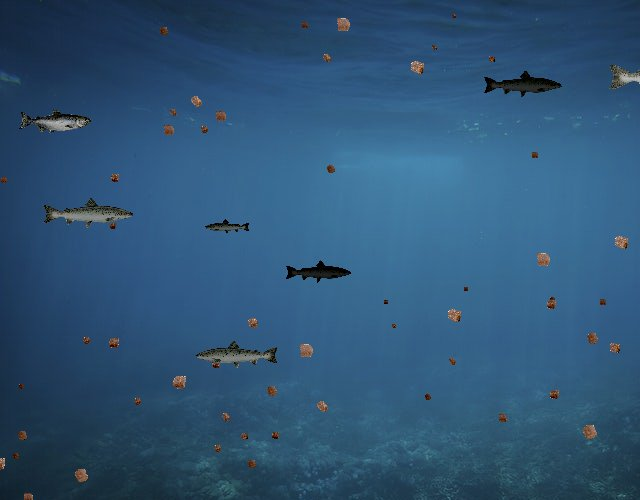Fish: (42, 196, 136, 230), (194, 339, 280, 370), (483, 70, 564, 99), (19, 108, 92, 134), (285, 260, 353, 284), (205, 218, 252, 235)
Pellet: (165, 368, 193, 396), (184, 89, 209, 114), (310, 395, 334, 419), (241, 312, 264, 335), (12, 425, 33, 446), (165, 105, 182, 122), (78, 332, 94, 348), (484, 52, 498, 66), (546, 293, 559, 306)
